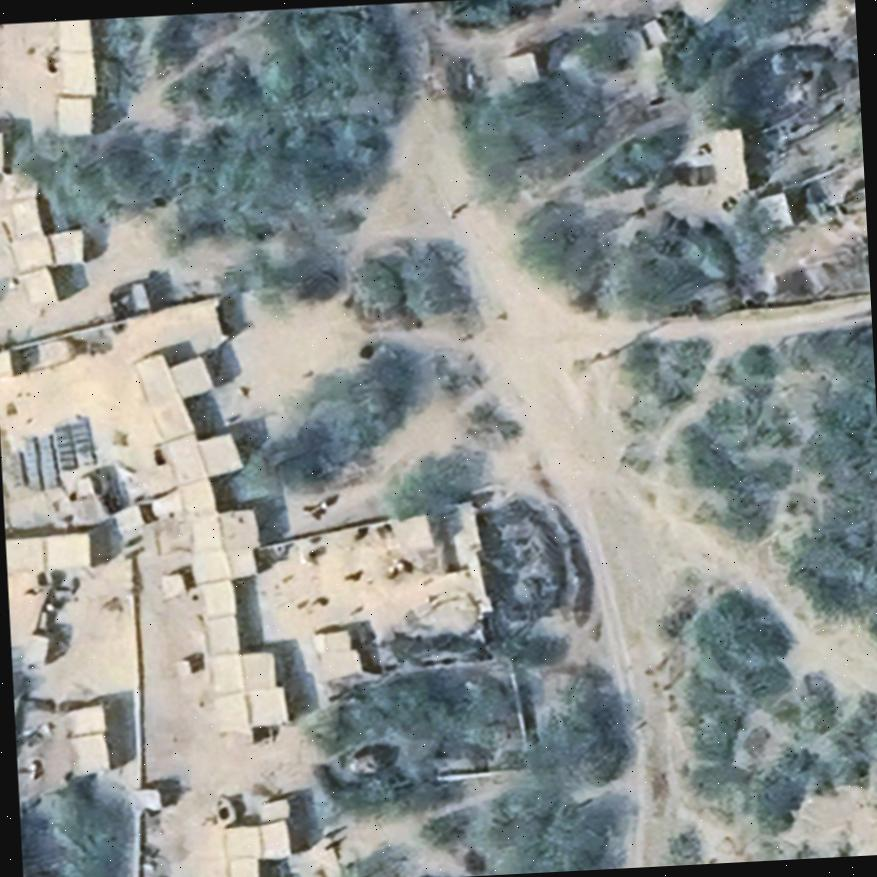Solarpanel: (50, 416, 97, 470), (16, 431, 57, 490)
